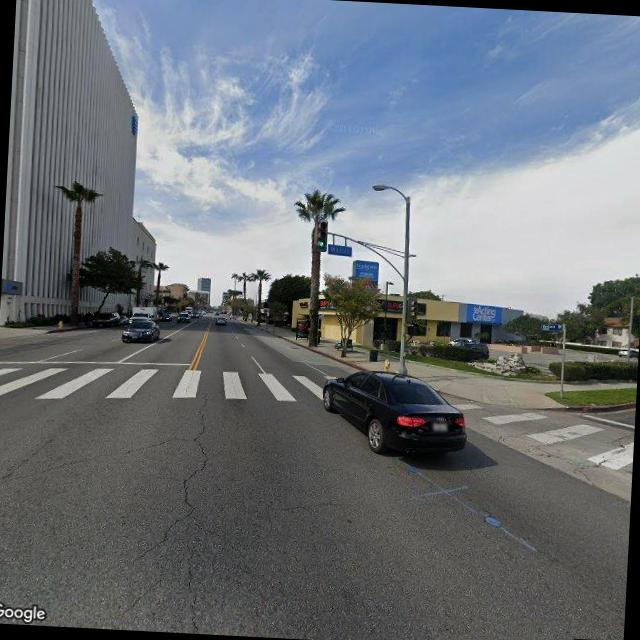crack: (134, 400, 218, 568), (176, 546, 208, 633), (120, 431, 184, 457)
